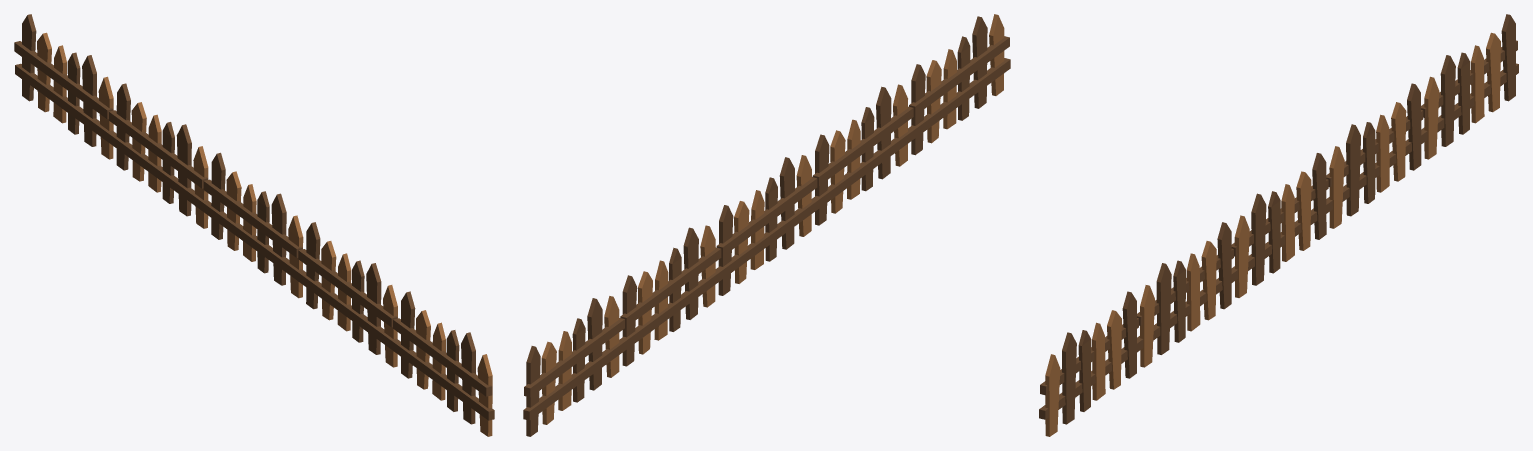
The model's file is vallasarray5.fbx.
3 views of the same model, side by side, from view 1: azimuth 30°, elevation 25°; view 2: azimuth 150°, elevation 25°; view 3: azimuth 330°, elevation 25° (orthographic).
Parts seen in each view (by area): view 1: Cube.006; view 2: Cube.006; view 3: Cube.006.
Boxes of the visible parts, x1=… form: Cube.006: x1=14, y1=14, x2=494, y2=436; Cube.006: x1=523, y1=14, x2=1010, y2=436; Cube.006: x1=1039, y1=14, x2=1518, y2=436.
Bounding box in the file's own units: 22.16 × 234 × 2277.
